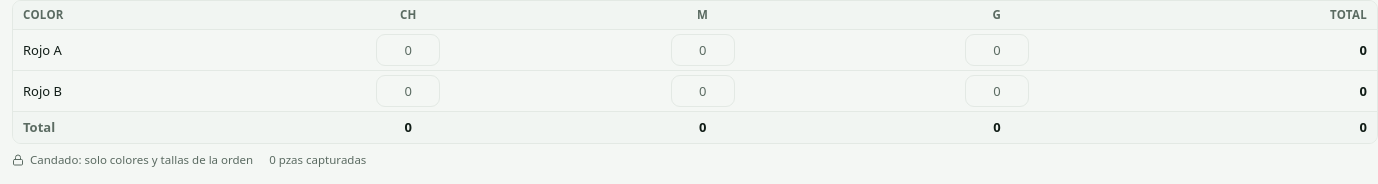
<MatrizColorTalla> (candado) › capturar celdas suma solos los totales de fila, columna y general
This screenshot has width=1378, height=184.
In the number field with test id "mc-celda": point(408, 50) [376,34,440,66], type "10"
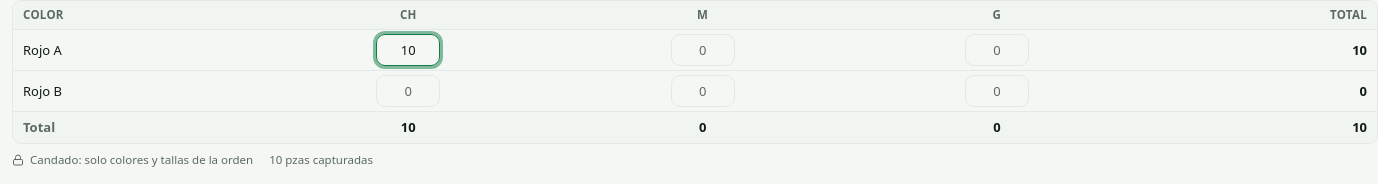
In the number field with test id "mc-celda": point(703, 50) [671,34,735,66], type "5"
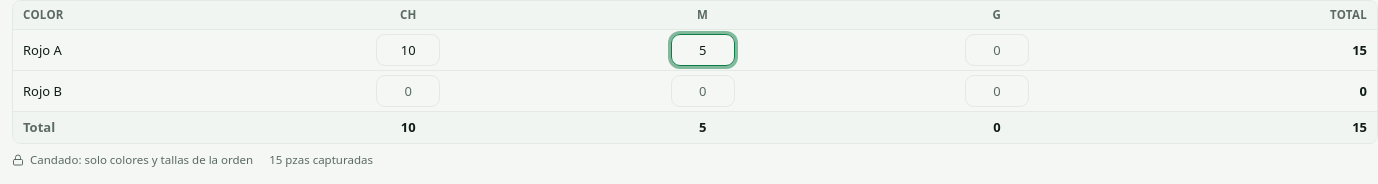
In the number field with test id "mc-celda": point(408, 91) [376,75,440,107], type "7"
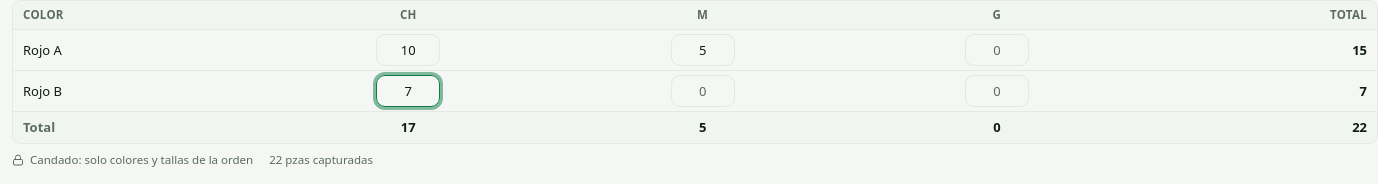
Expected: the cell with test id "mc-total-fila" reads "15", [1352,41,1367,59]
Expected: the cell with test id "mc-total-fila" reads "7", [1360,82,1367,100]
Expected: the cell with test id "mc-total-columna" reads "17", [401,118,416,136]
